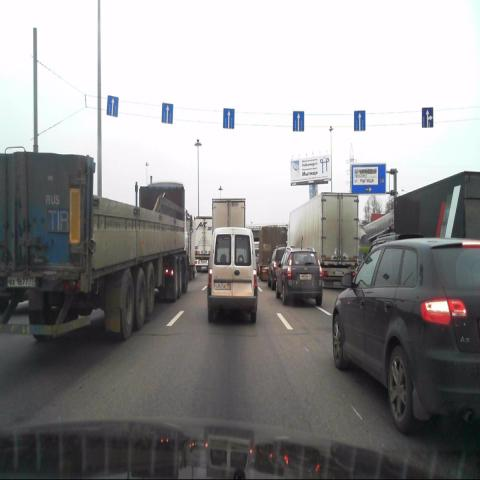5_15_2: (107, 95, 119, 117)
